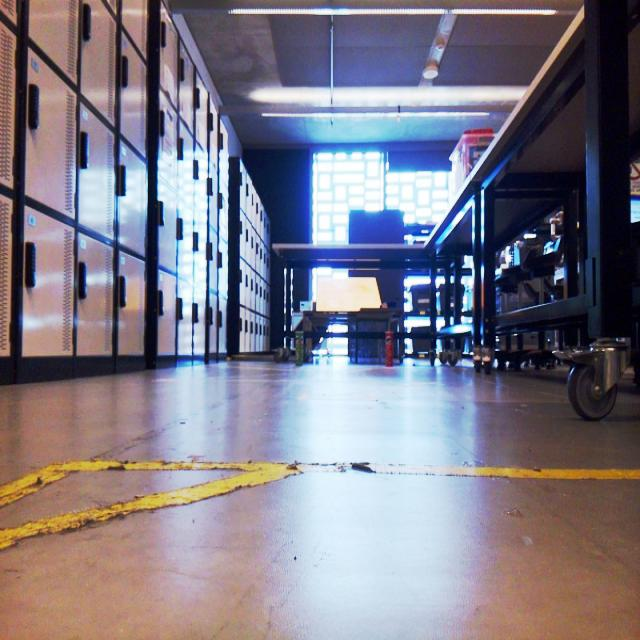greenpringles: (284, 321, 312, 373)
redpringles: (373, 324, 404, 373)
